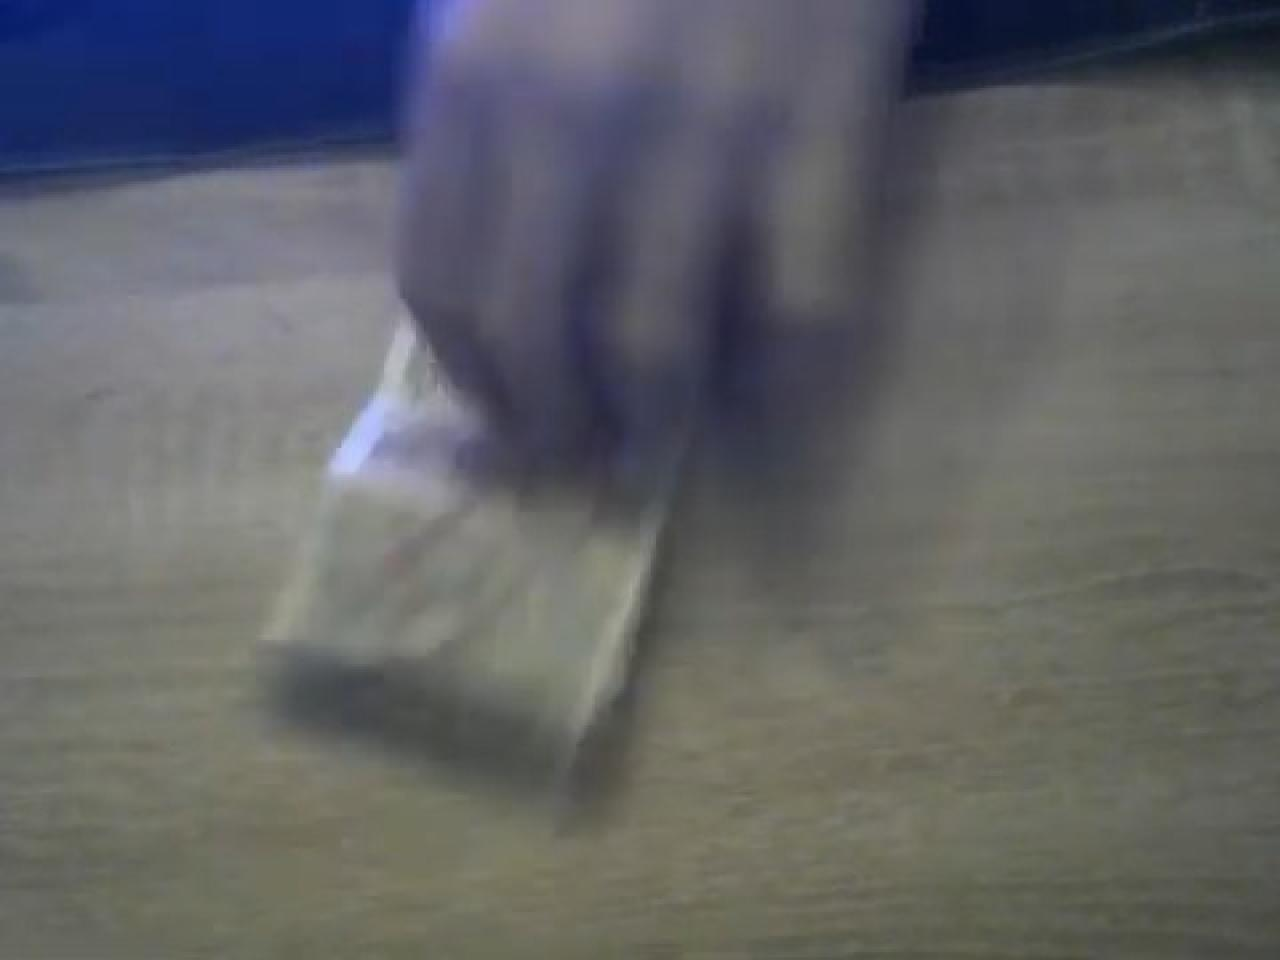10leva: (259, 318, 674, 837)
